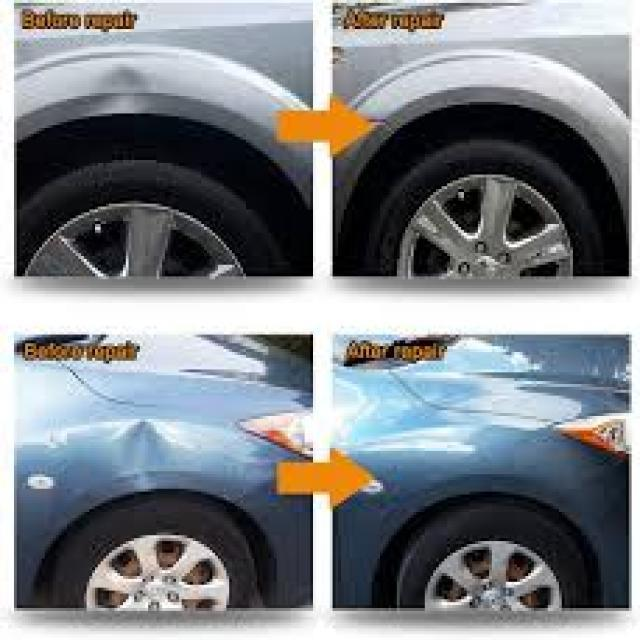dent-or-scratch: (108, 416, 179, 496), (98, 55, 156, 118)
